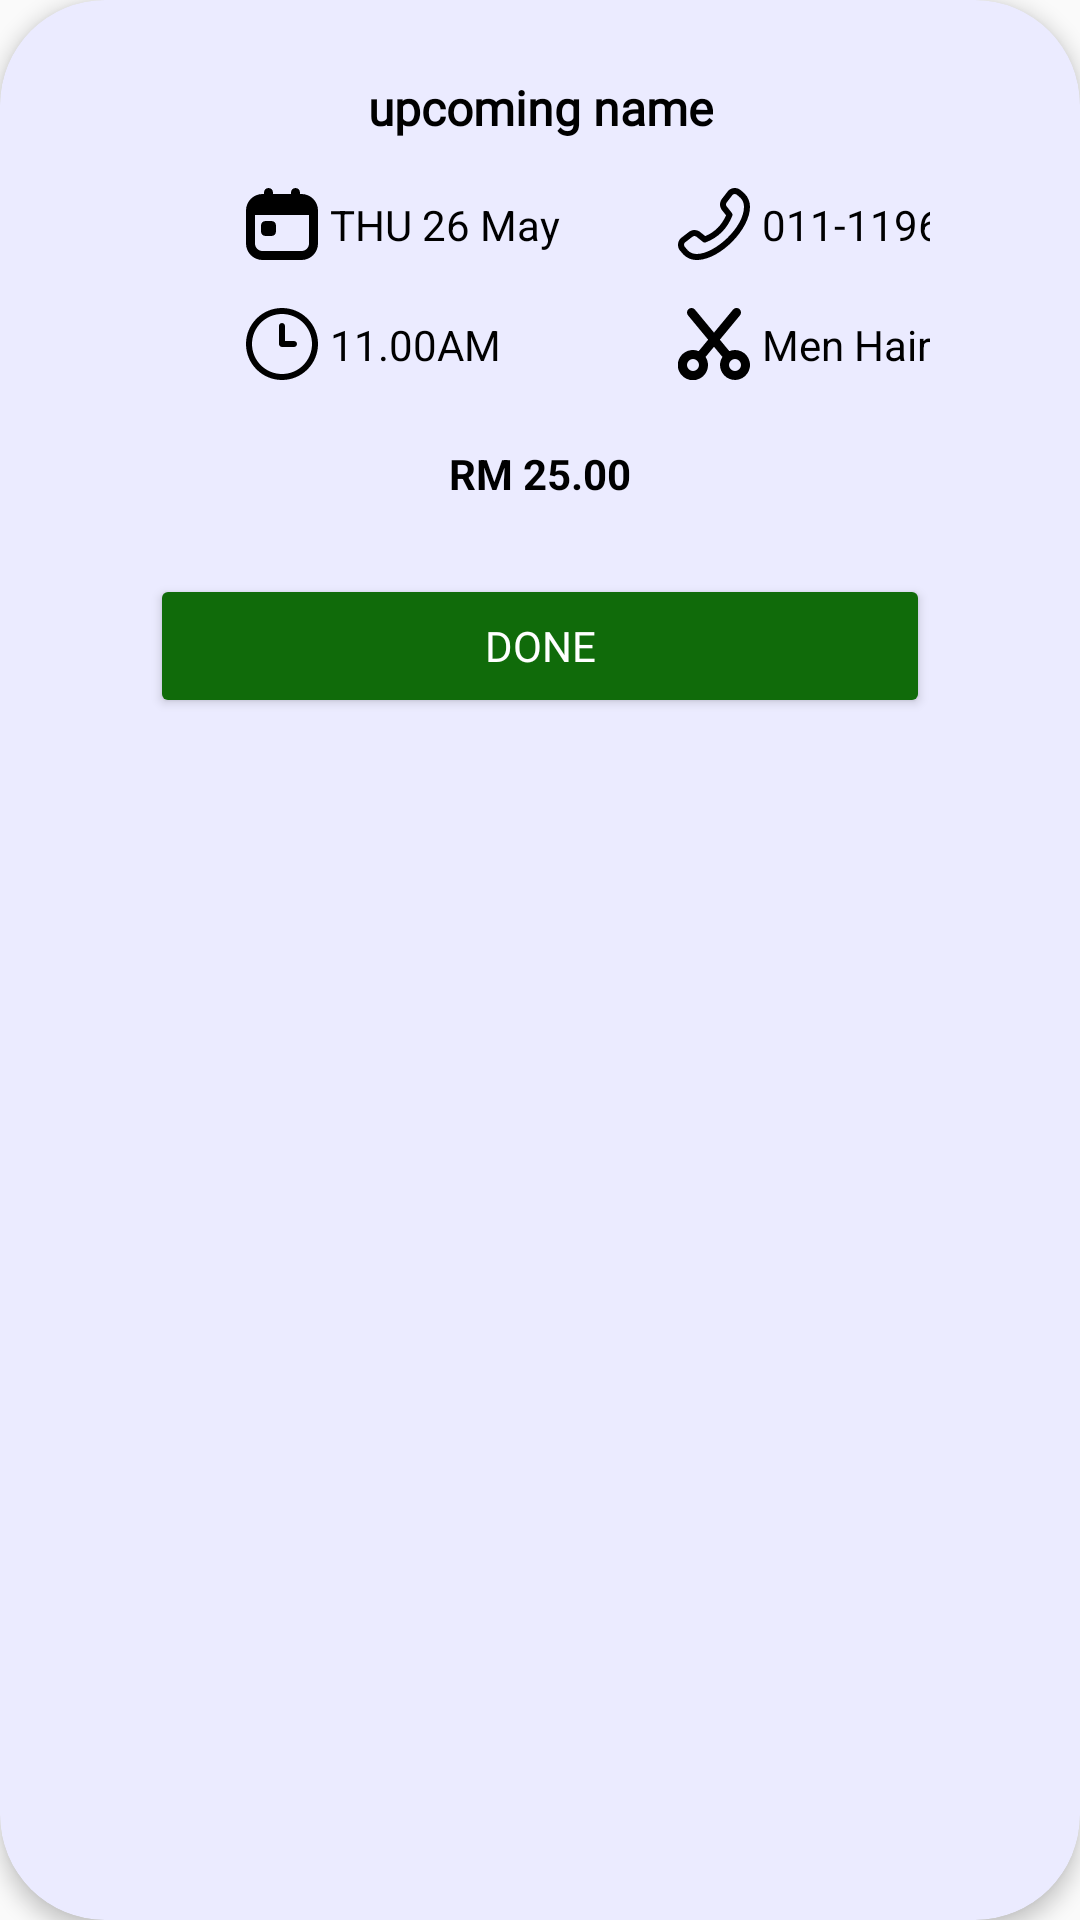

Screen size 1080×1920. Icon name, then its center in pixels as [x,y]:
calendar: [282,224]
clock: [282,344]
phone: [714,224]
scissors: [714,344]
